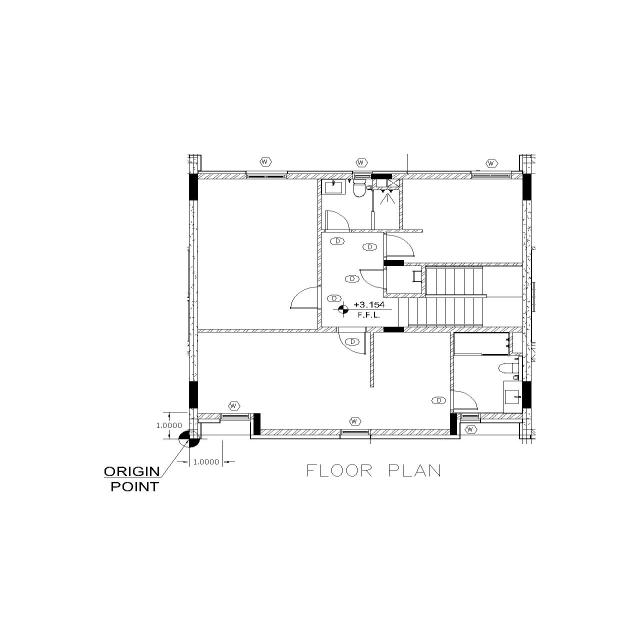Column: (520, 380, 534, 410), (188, 172, 200, 202), (521, 173, 533, 201), (188, 380, 199, 409), (252, 412, 262, 436), (449, 412, 459, 436), (382, 259, 406, 267), (382, 326, 405, 334), (369, 173, 394, 180)
Door: (335, 326, 367, 334), (324, 228, 352, 234), (317, 285, 323, 310), (382, 234, 388, 258), (449, 388, 455, 412), (382, 267, 388, 290)
Staircase: (366, 264, 524, 328)
Window: (468, 170, 514, 181), (244, 170, 289, 180), (337, 428, 372, 437), (219, 412, 251, 421), (350, 169, 375, 180), (460, 412, 480, 421)
